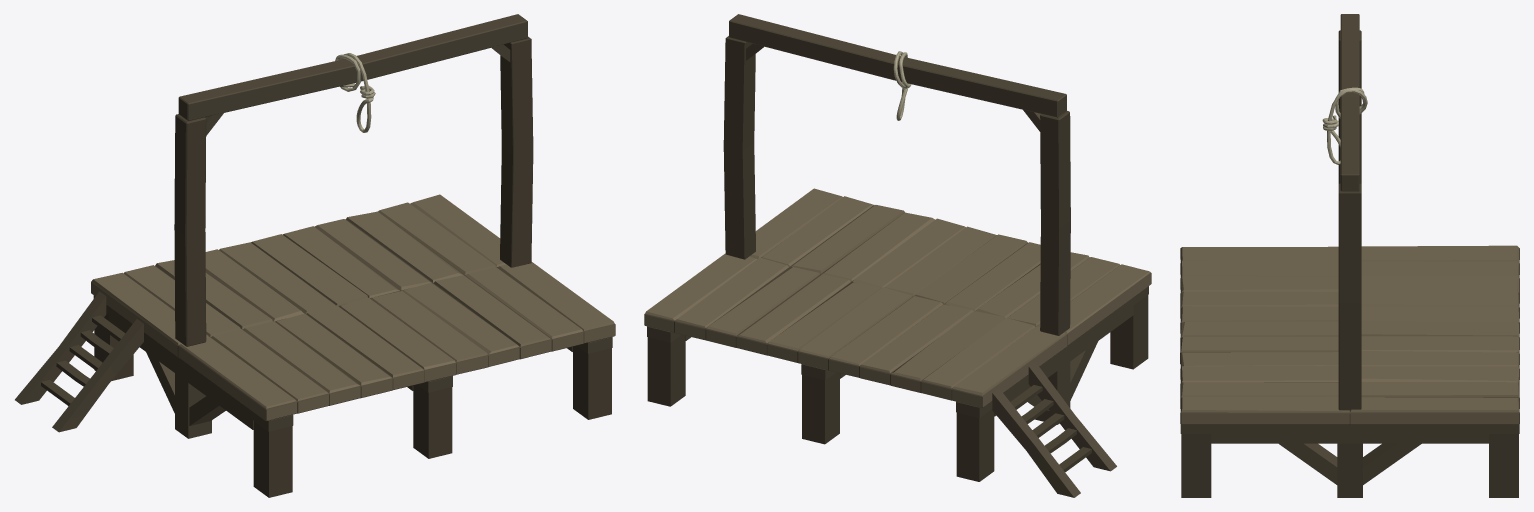
File: I_Gallow.fbx
3 views of the same model, side by side, from view 1: azimuth 30°, elevation 25°; view 2: azimuth 150°, elevation 25°; view 3: azimuth 270°, elevation 25° (orthographic). The views are drawn at different scales.
Parts seen in each view (by area): view 1: Gallow1; view 2: Gallow1; view 3: Gallow1.
Boxes of the visible parts, x1,y1,x2,y2 form: Gallow1: [15, 14, 615, 497]; Gallow1: [644, 14, 1151, 497]; Gallow1: [1180, 14, 1519, 497].
Size of the model in its own units: 20.11 by 14.97 by 14.01.
